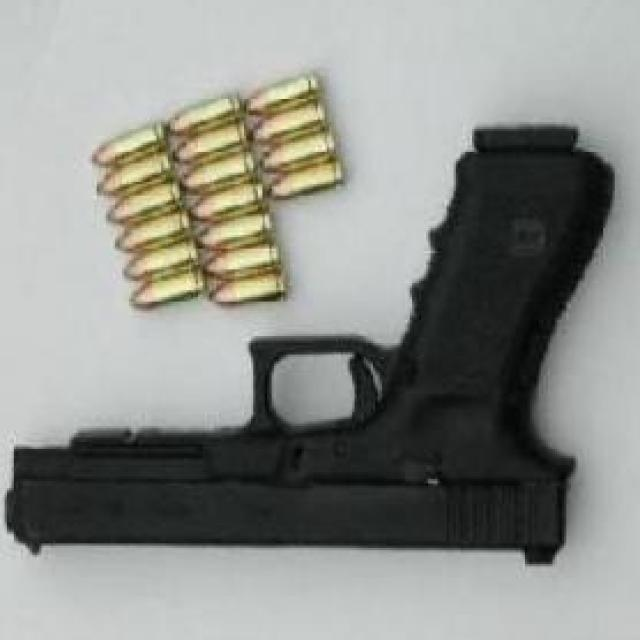pistol: (9, 118, 615, 557)
